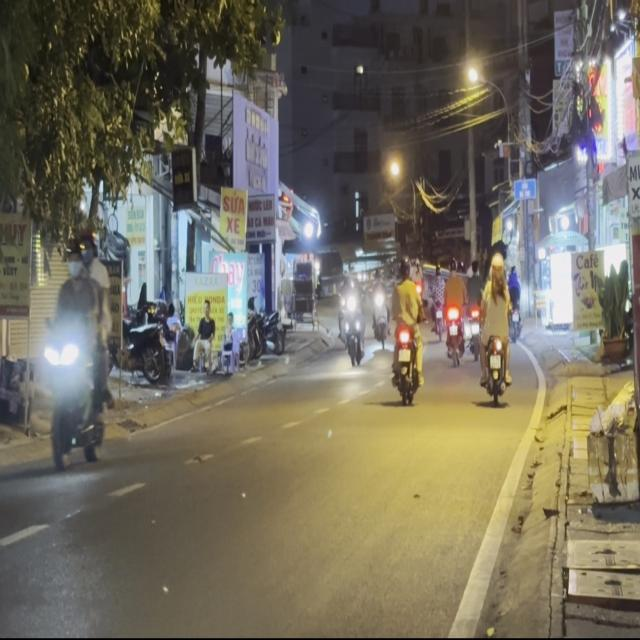helmet: (80, 229, 101, 274), (63, 236, 83, 280)
licenseplate: (43, 224, 125, 482)
